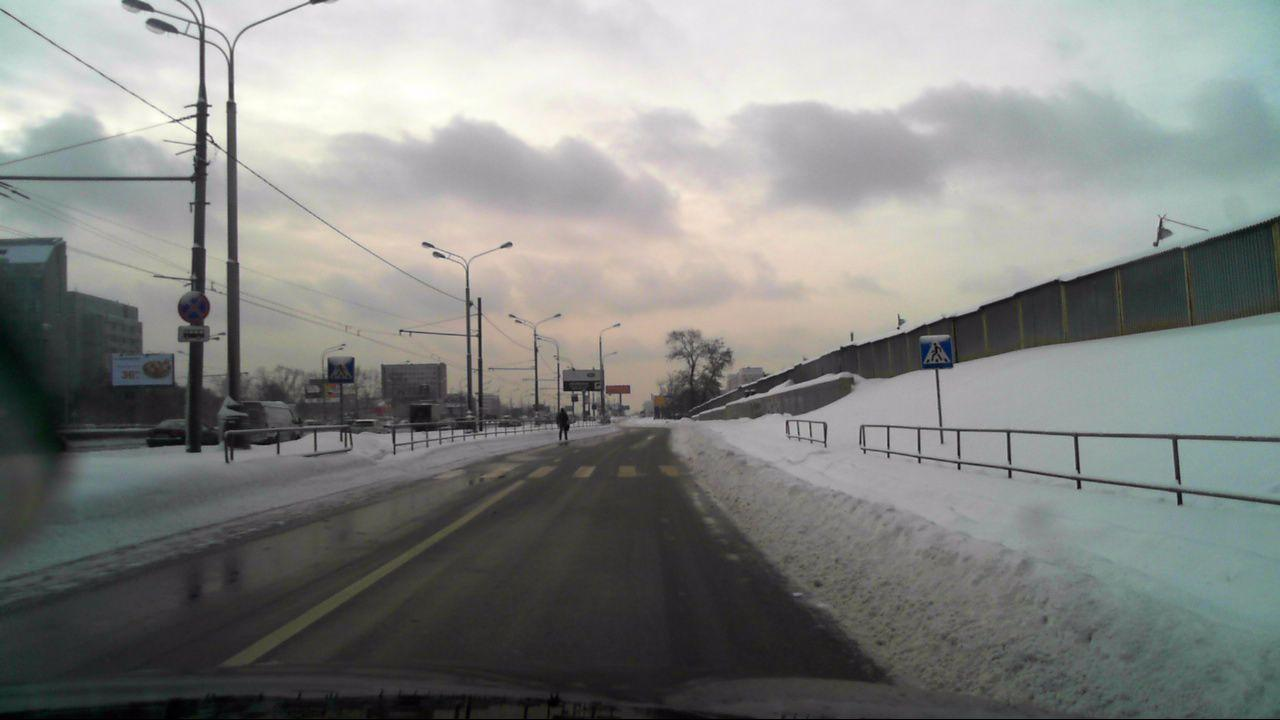3_27: (178, 291, 212, 323)
5_19_1: (920, 334, 953, 369)
5_19_2: (326, 355, 357, 382)
8_4_4: (176, 324, 211, 342)
